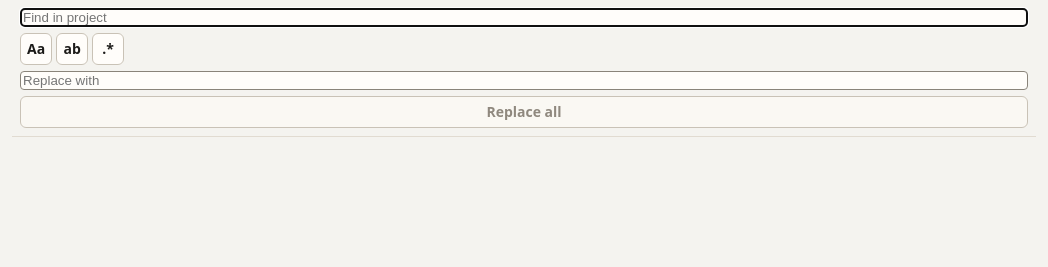
Test case: ProjectSearch › lists matches by file and opens one
Later steps or results of the test are not shown.
In the field labelled "Find in project": [524, 18] box [20, 8, 1028, 27], type "intro"
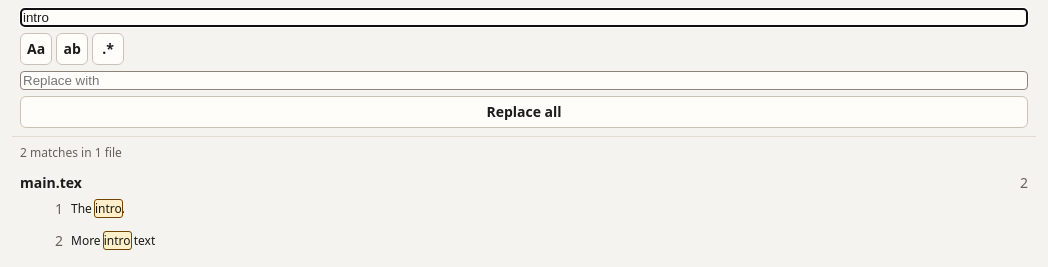
Now the text "2 matches in 1 file" is shown, box [20, 144, 122, 161]
